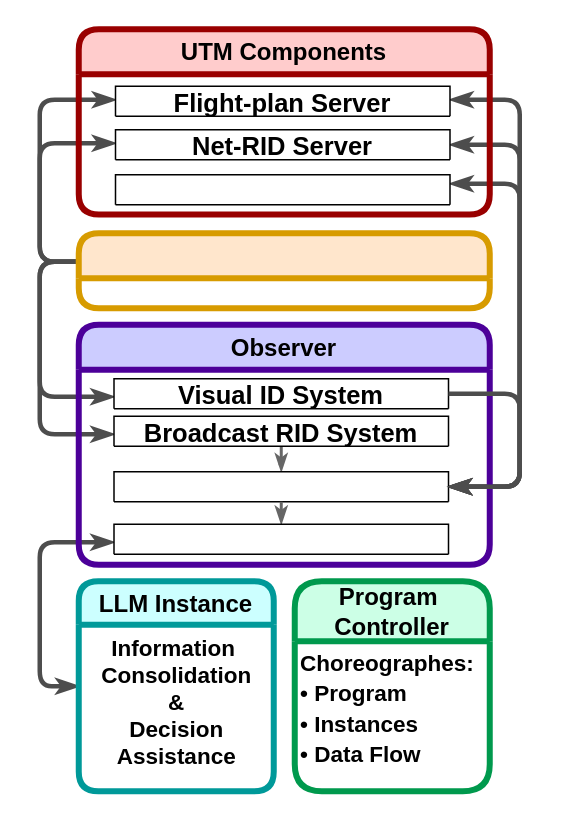
The diagram is 561 pixels wide and 819 high, and some of its shapes have lost their labels. Each missing label, with the centre of its shape:
"LLM Interface" belongs at pixel 280 538.
"No-Fly Zones Server" belongs at pixel 282 189.
"Simulated UAV" belongs at pixel 283 270.
"UTM Accumulator" belongs at pixel 280 486.
